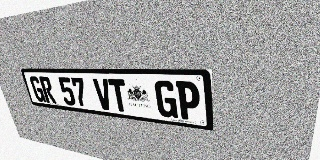5: (58, 77, 77, 106)
7: (70, 77, 90, 108)
G: (154, 80, 178, 118), (29, 76, 46, 102)
P: (176, 81, 201, 121)
R: (39, 76, 57, 104)
T: (108, 79, 130, 113)
V: (92, 78, 113, 111)
